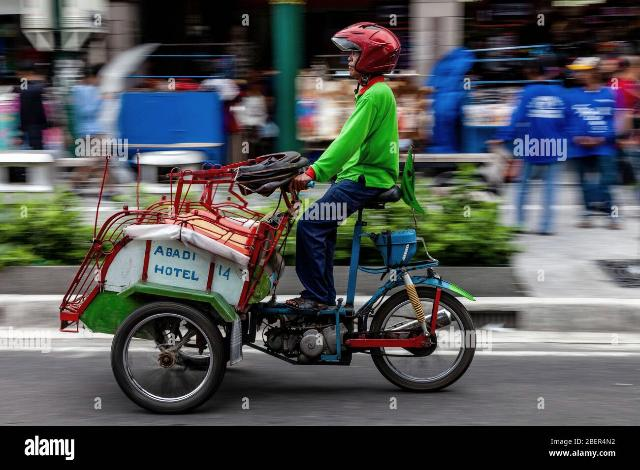helm: (332, 21, 404, 84)
